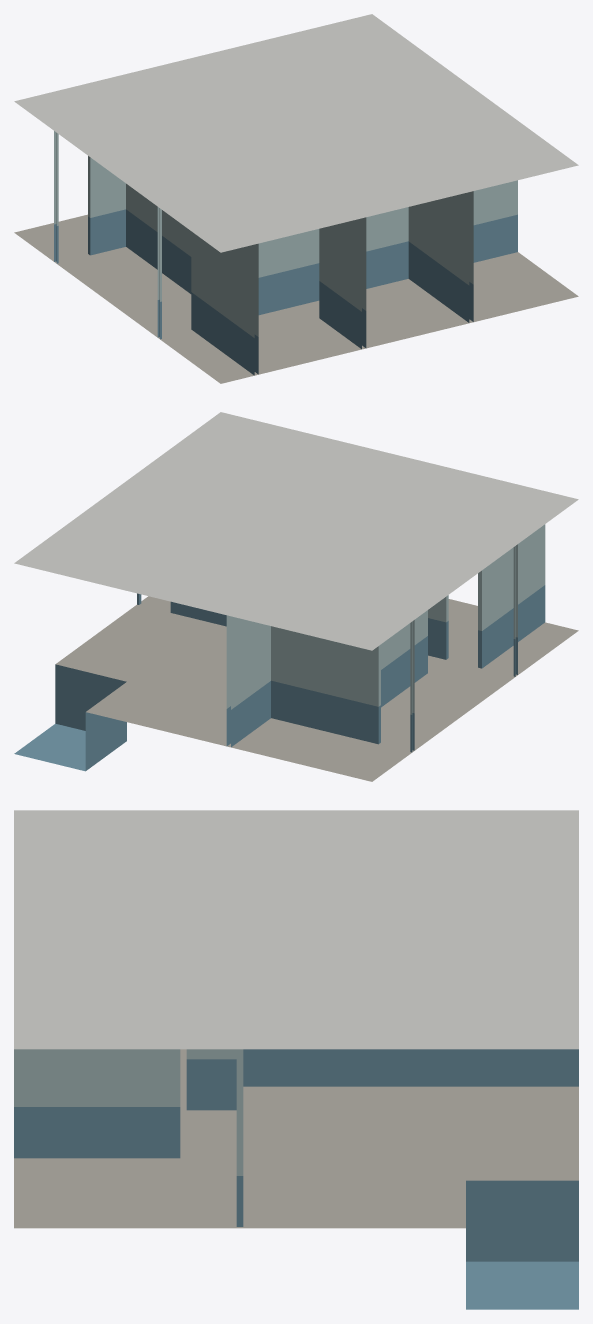
Rendered from chunk_1_1.glb.
3 renders of one model, top to bottom at view 1: azimuth 30°, elevation 25°; view 2: azimuth 150°, elevation 25°; view 3: azimuth 270°, elevation 25°, orthographic. The views are drawn at different scales.
Visible parts, largest first — view 1: chunk_1_1; view 2: chunk_1_1; view 3: chunk_1_1.
Boxes of the visible parts, x1,y1,x2,y2 form: chunk_1_1: (14,14,578,383); chunk_1_1: (14,412,578,781); chunk_1_1: (14,810,578,1309).
Bounding box in the file's own units: 12 × 6.1 × 12.
